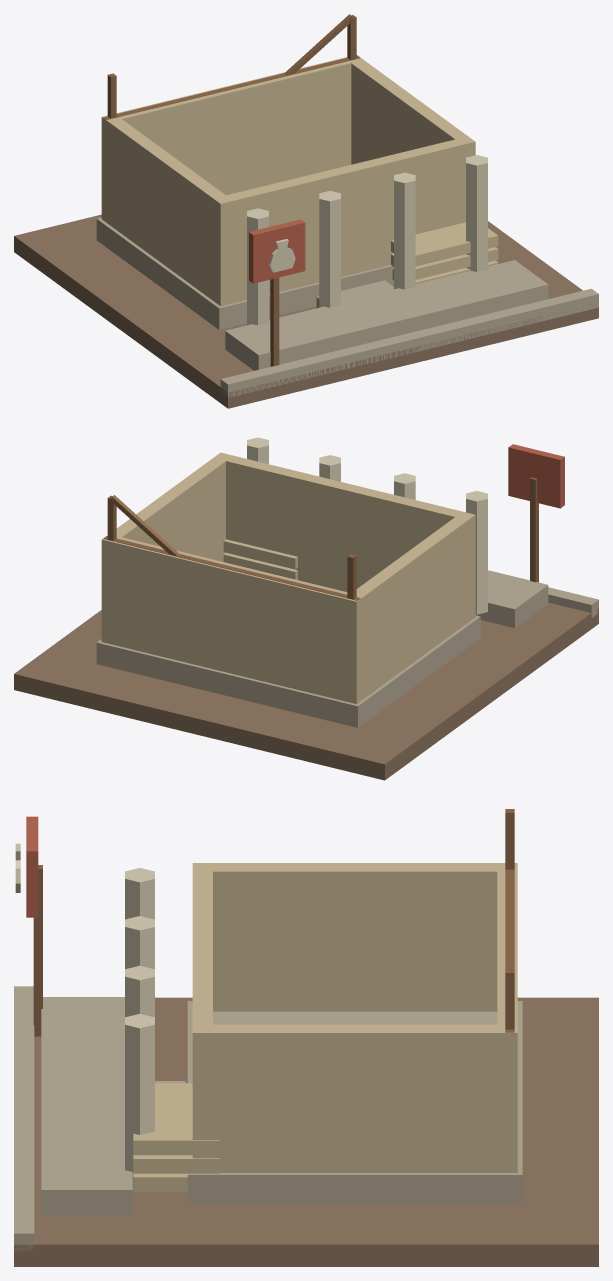
File: museum-half-built.glb
3 renders of one model, top to bottom at view 1: azimuth 30°, elevation 25°; view 2: azimuth 150°, elevation 25°; view 3: azimuth 270°, elevation 25°, orthographic. The views are drawn at different scales.
Visible parts, largest first — view 1: museum; view 2: museum; view 3: museum.
Boxes of the visible parts, x1,y1,x2,y2 form: museum: [14, 14, 598, 408]; museum: [14, 437, 598, 780]; museum: [14, 809, 598, 1266].
Bounding box in the file's own units: 2.88 × 1.38 × 2.88.
